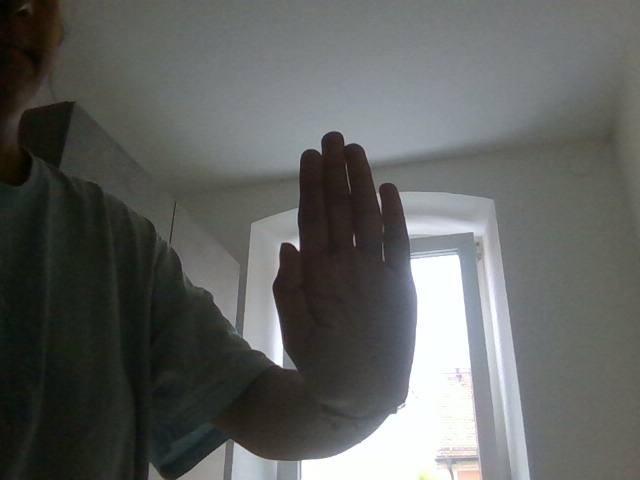Palm: (257, 131, 428, 415)
